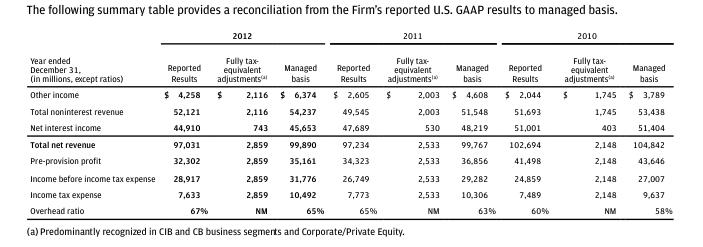table: (29, 29, 671, 215)
table column: (29, 29, 158, 215), (555, 29, 621, 215), (380, 29, 444, 215), (211, 29, 273, 215), (499, 29, 555, 215), (444, 29, 499, 215), (273, 29, 327, 215), (158, 29, 211, 215), (327, 29, 380, 215), (621, 29, 671, 215)
table column header: (29, 29, 671, 85)
table row: (29, 47, 671, 85), (29, 29, 671, 47), (29, 85, 671, 102), (29, 118, 671, 135), (29, 151, 671, 168), (29, 168, 671, 185), (29, 185, 671, 202), (29, 102, 671, 118), (29, 135, 671, 151), (29, 202, 671, 215)
table spanning cell: (29, 29, 158, 85), (327, 29, 499, 47), (499, 29, 671, 47), (158, 29, 327, 47)
